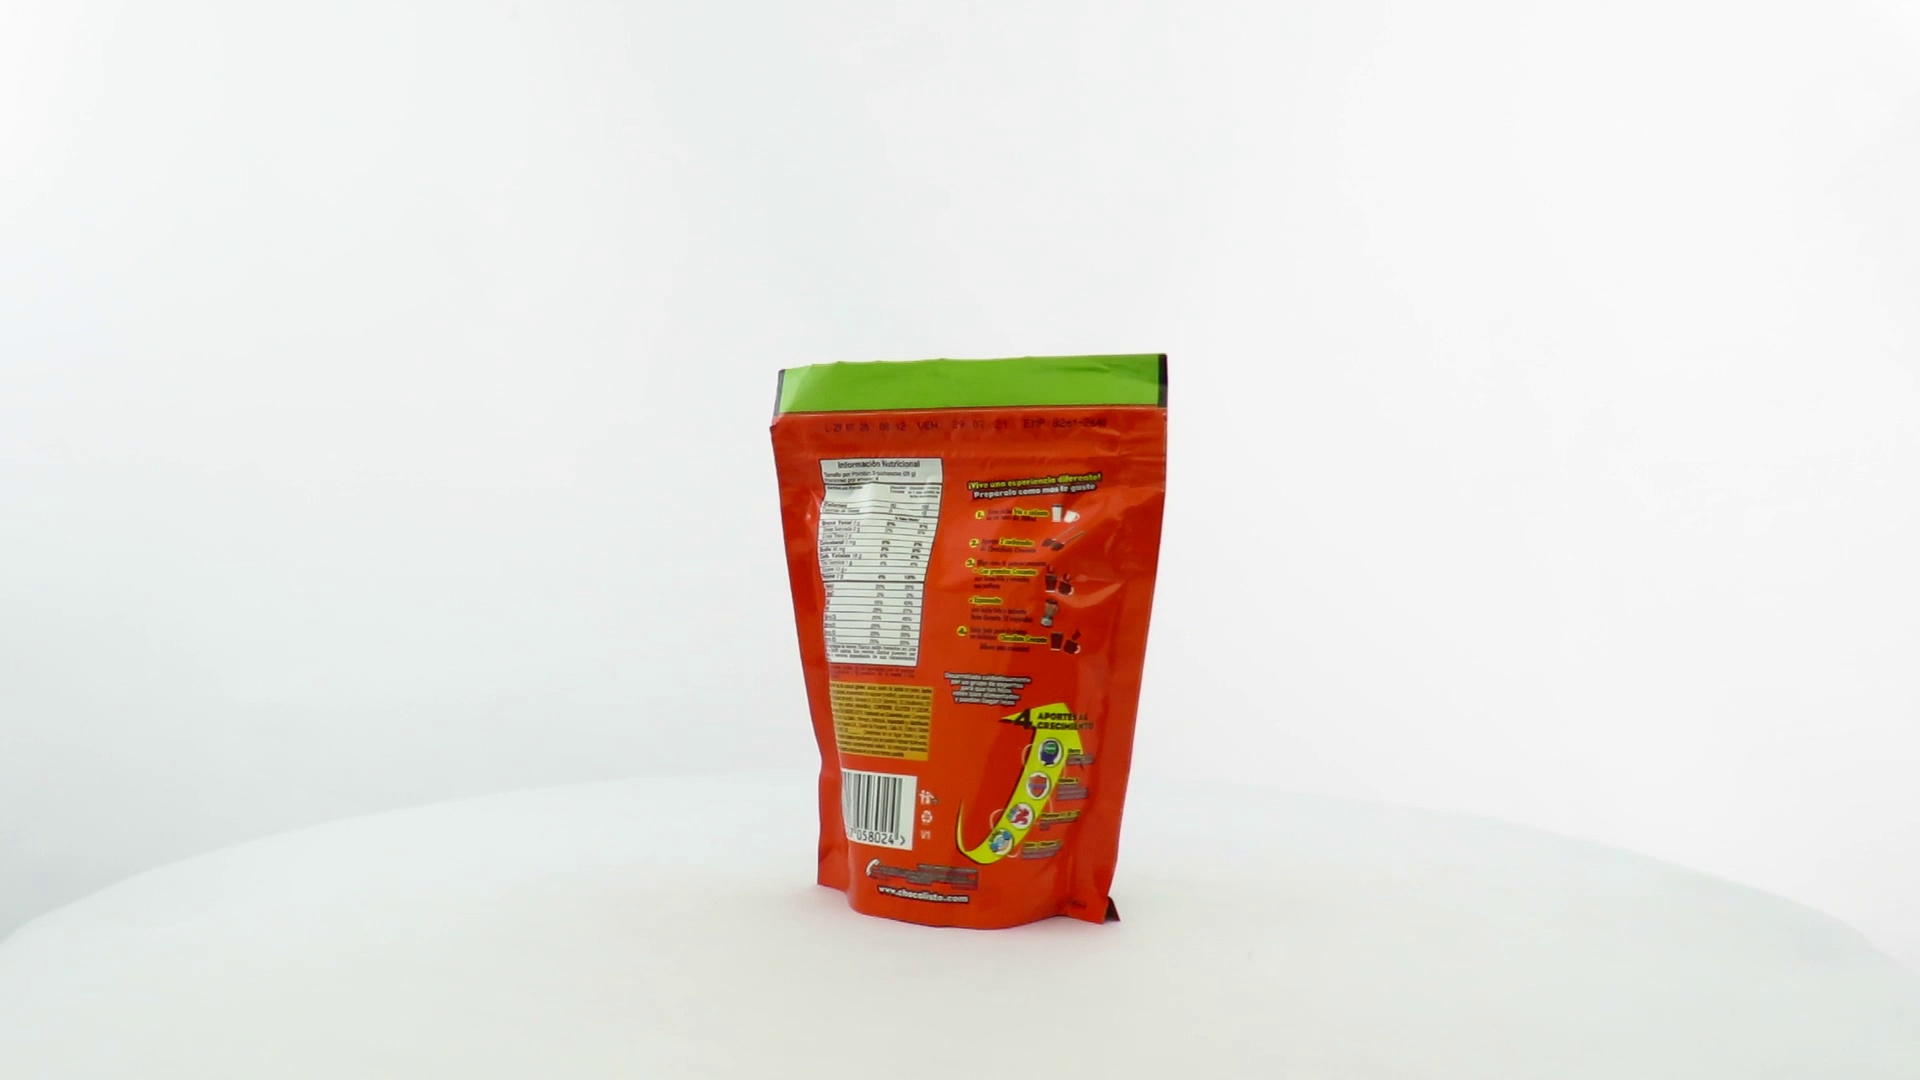COL0170102DYP10000: (764, 348, 1174, 938)
